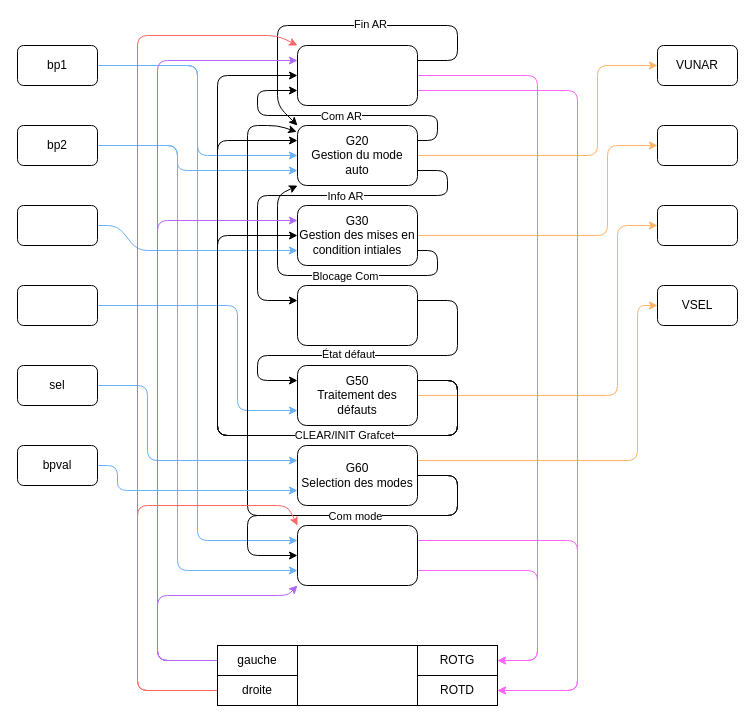
The diagram is 755 pixels wide and 723 high, and some of its shapes have lost their labels. The shapes that lost their labels are listed below. From the top down, each one's centre as x and y in pixels, then its label:
[357,75]: G10 Gestion des allés retours
[697,145]: VCIR
[57,225]: bpmci
[697,225]: VDEF1
[57,305]: bpacqdef1
[357,315]: G40 Detection des défauts
[357,555]: G70 Gestion du mode manuel (test)
